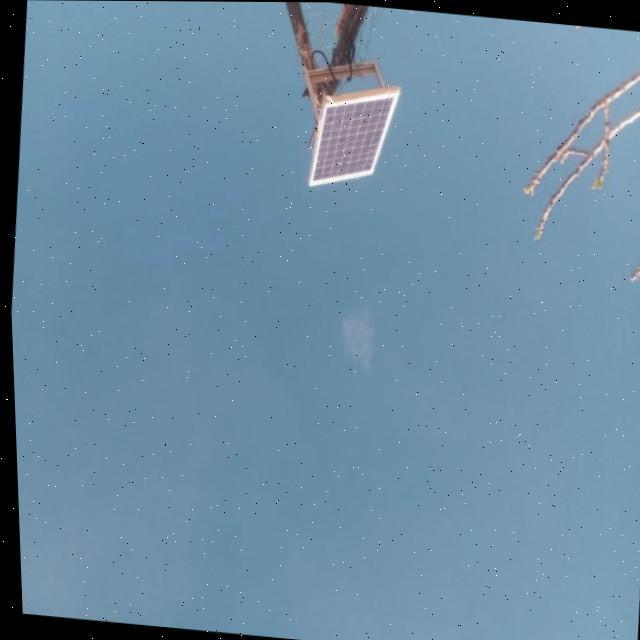Normal Solar Panel: (304, 82, 402, 194)
